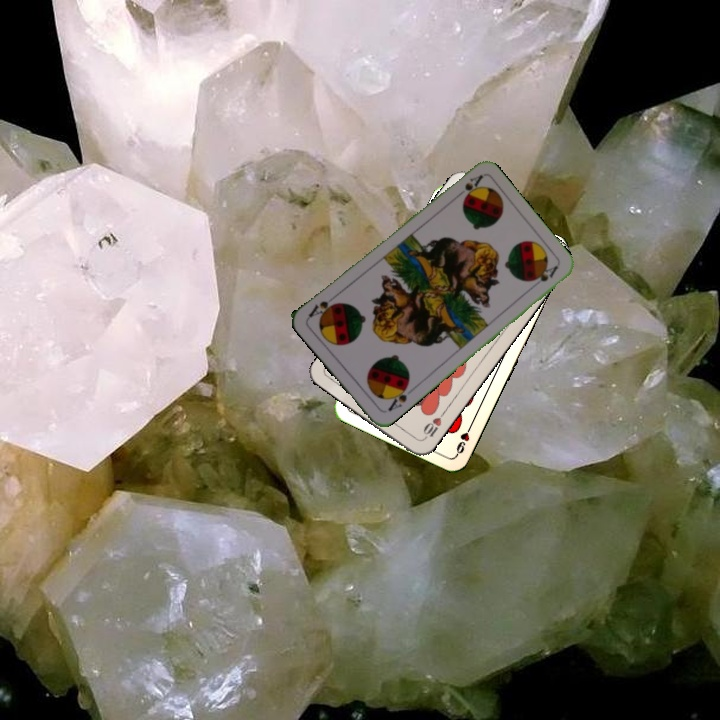H10: (418, 408, 447, 443)
H9: (452, 419, 475, 458)
SA: (451, 171, 485, 202), (384, 379, 411, 414)
